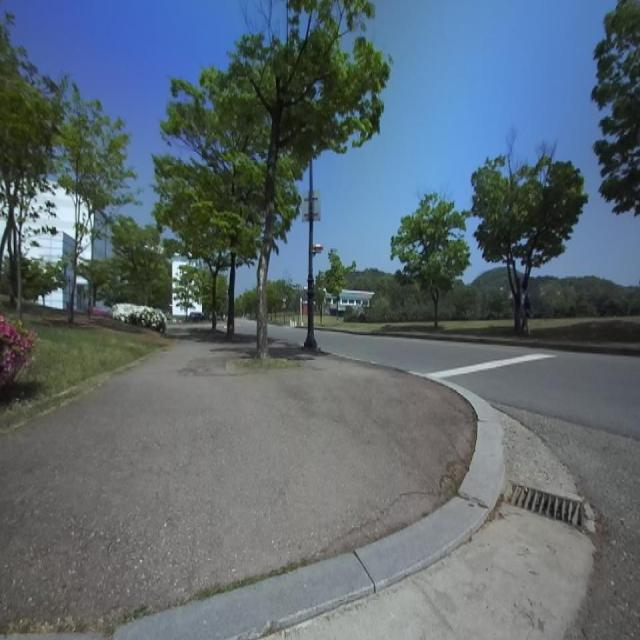sidewalk: (0, 334, 476, 632)
